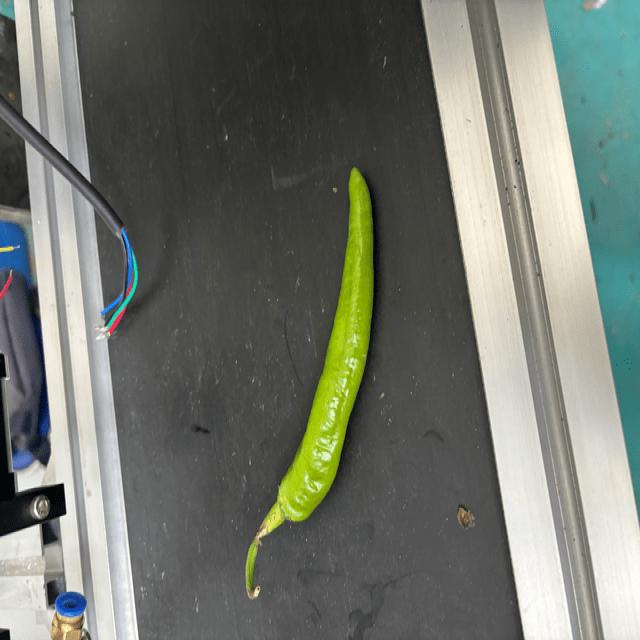chili: (273, 162, 376, 525)
